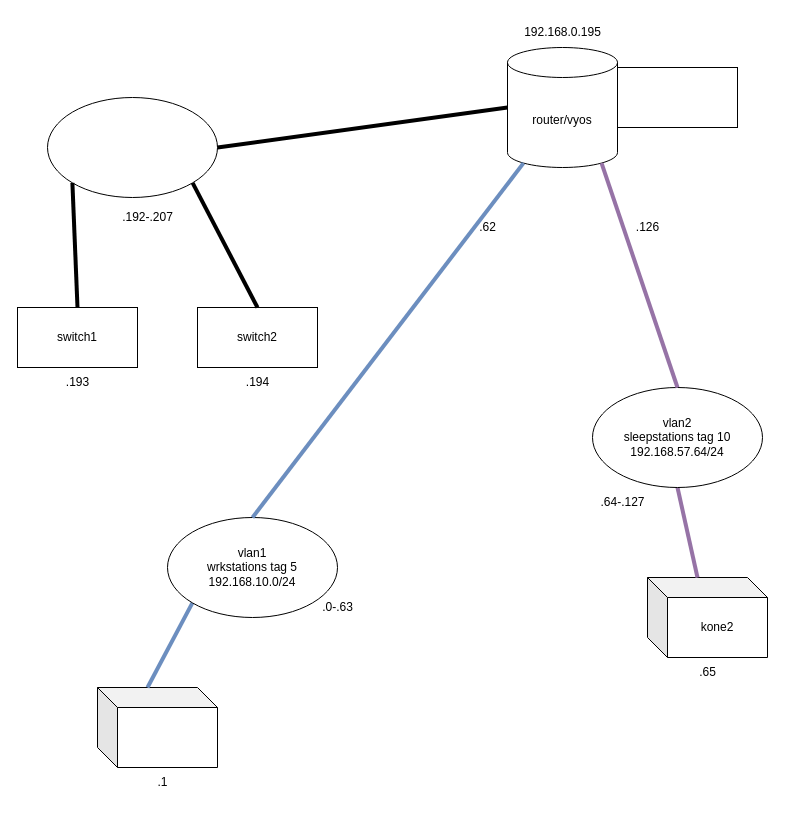
The diagram is 785 pixels wide and 814 high, and some of its shapes have lost their labels. Each missing label, with the centre of its shape:
"08:00:27:f6:24:03 eth0" goes at [677,97].
"kone1" goes at [157,727].
"vlan5 ntwr device tag 0-4090 10.10.03.0/28" goes at [132,147].
